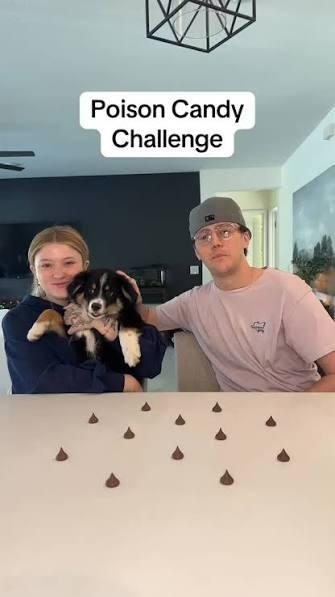adult_dog: (24, 268, 160, 374)
